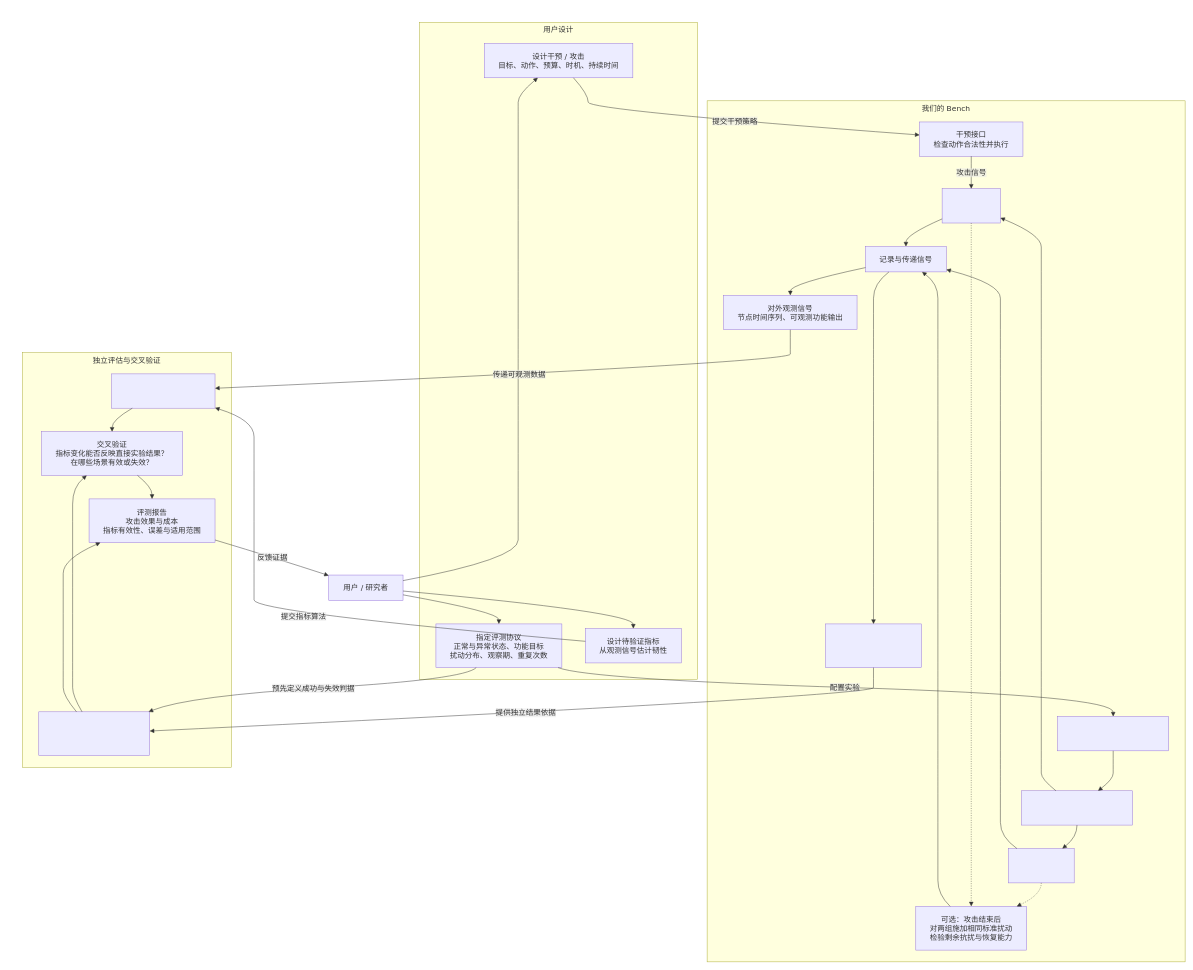
The diagram is 1193 pixels wide and 970 high, and some of its shapes have lost their labels. The centre of each missing label's shape, as x and y in pixels:
对照组 不施加攻击: pixel 1041 865
攻击组 施加攻击: pixel 971 205
构建实验场景 网络、动力学、初始状态: pixel 1113 733
生成配对实验 相同初始快照与外部扰动: pixel 1076 807
直接评估攻击效果 两组失效概率、失效时间 功能损失与恢复表现之差: pixel 94 733
评测端完整记录 真实状态、转换时刻 攻击成本、功能损失: pixel 873 645
运行用户指标 输出韧性分数及其变化: pixel 163 390
